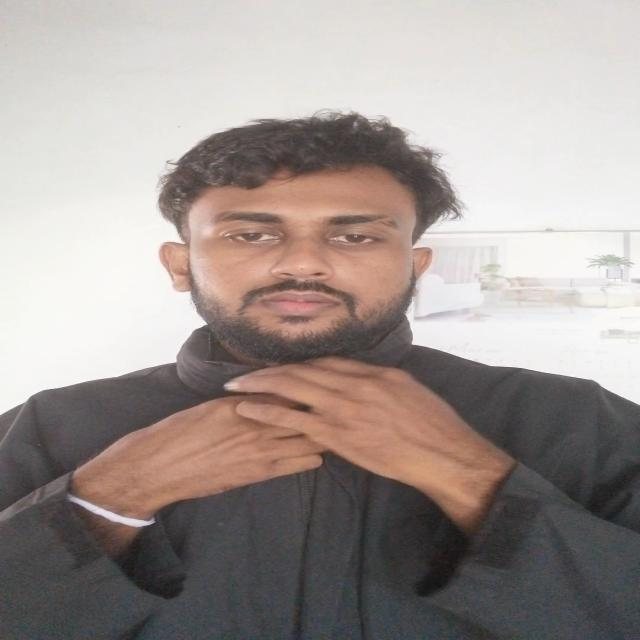Jacket_Wearer: (7, 301, 640, 640)
Person: (4, 107, 639, 640)
